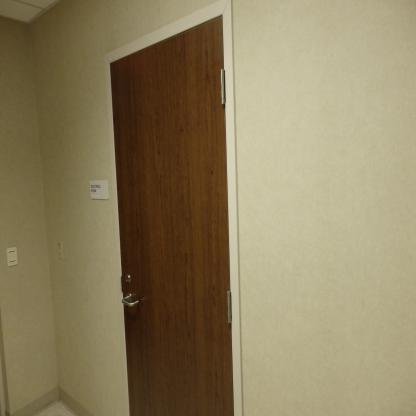door: (109, 16, 233, 415)
hinged: (226, 292, 233, 324), (220, 69, 226, 104)
lever: (121, 295, 142, 311)
